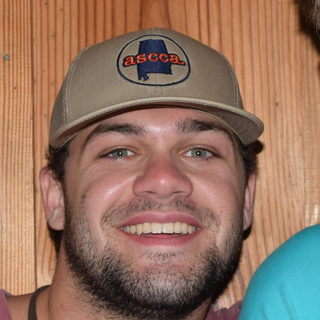eye: (96, 141, 144, 165), (177, 140, 223, 165)
